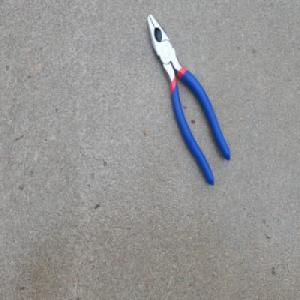Pliers: (145, 12, 232, 188)
